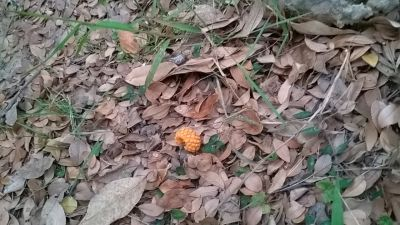eggs: (174, 125, 203, 154)
